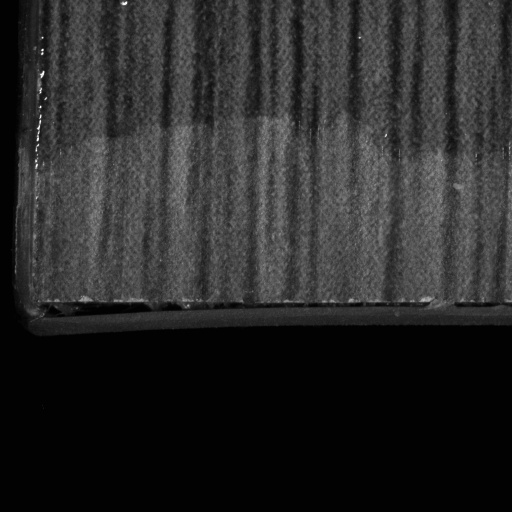kaijiao: (5, 295, 319, 340)
